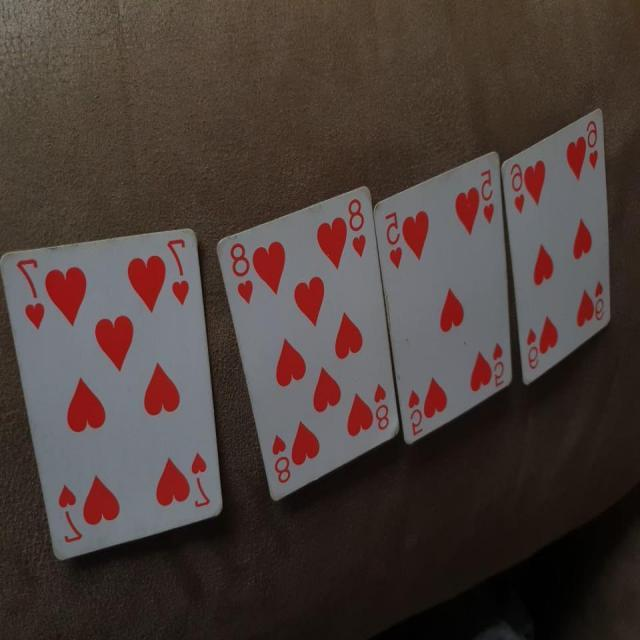5 of hearts: (374, 148, 514, 442)
6 of hearts: (506, 106, 616, 400)
7 of hearts: (2, 218, 225, 576)
8 of hearts: (214, 178, 402, 504)
